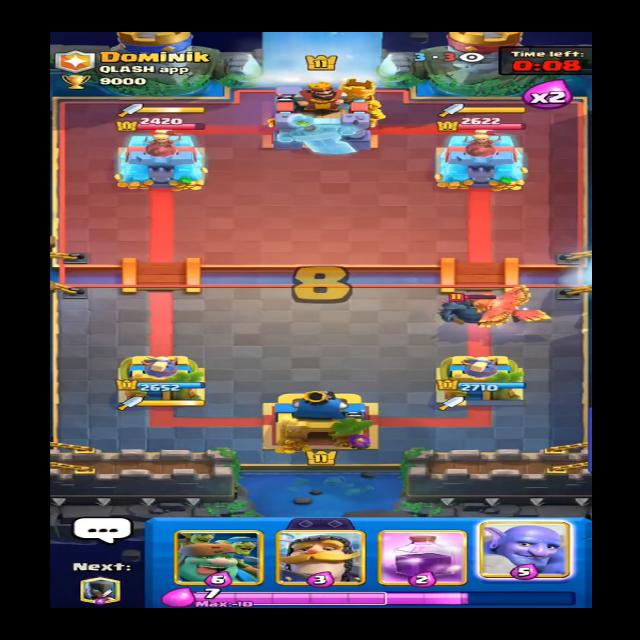pekka: (435, 288, 518, 326)
